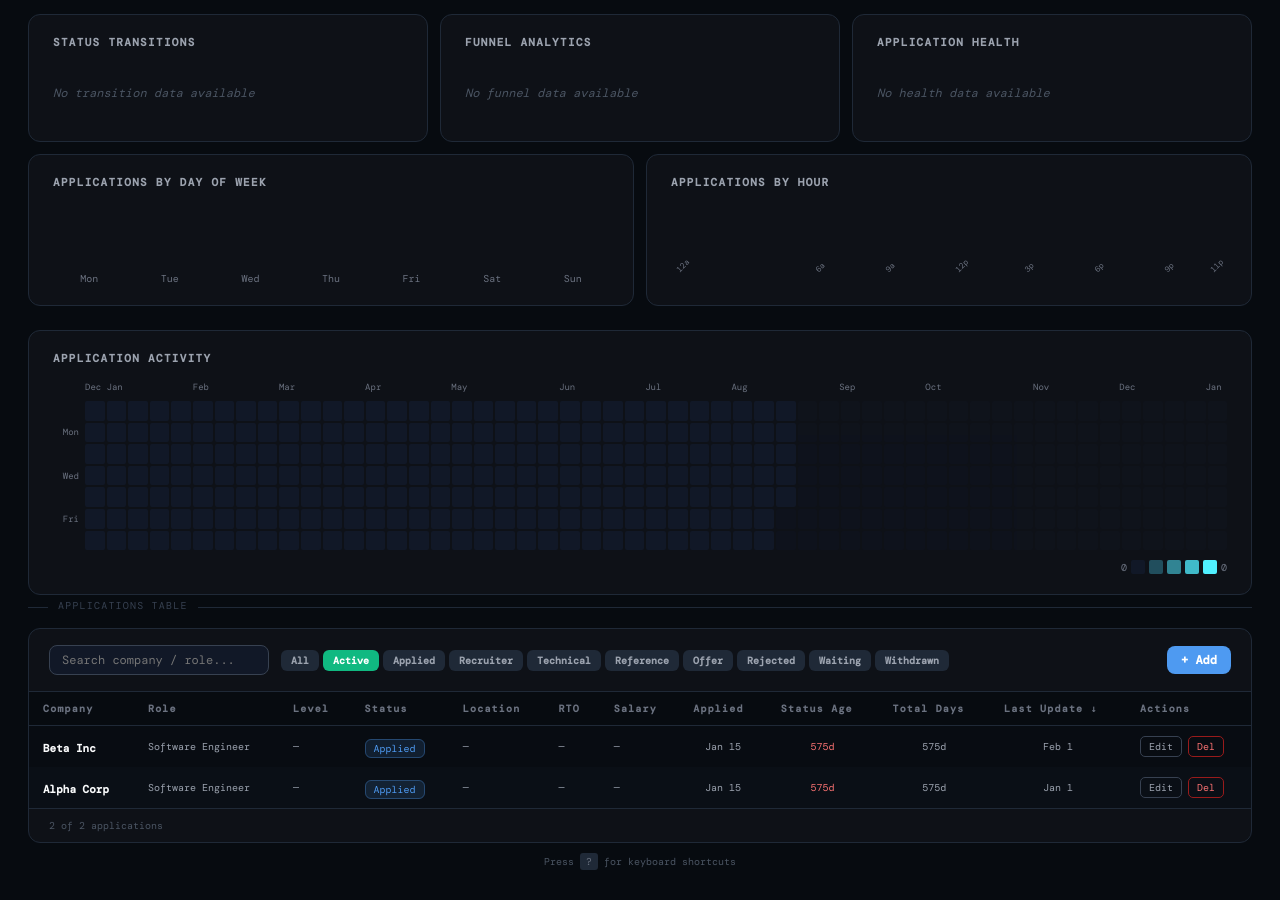
Test case: JobTracker (Dashboard) › Sort order after edit › should re-sort table immediately after edit without page refresh
(page scrolled)
Check: the table is shown, box x1=29 y1=692 x2=1251 y2=808
Check: the text "Beta Inc" is shown, box x1=43 y1=741 x2=96 y2=755
Note: Click Edit on Alpha Corp (second row)
What coordinates should you click on to do the following:
click the 2nd button "Edit"
I would click on:
 (1161, 788)
Its box is x1=1140 y1=777 x2=1182 y2=798.
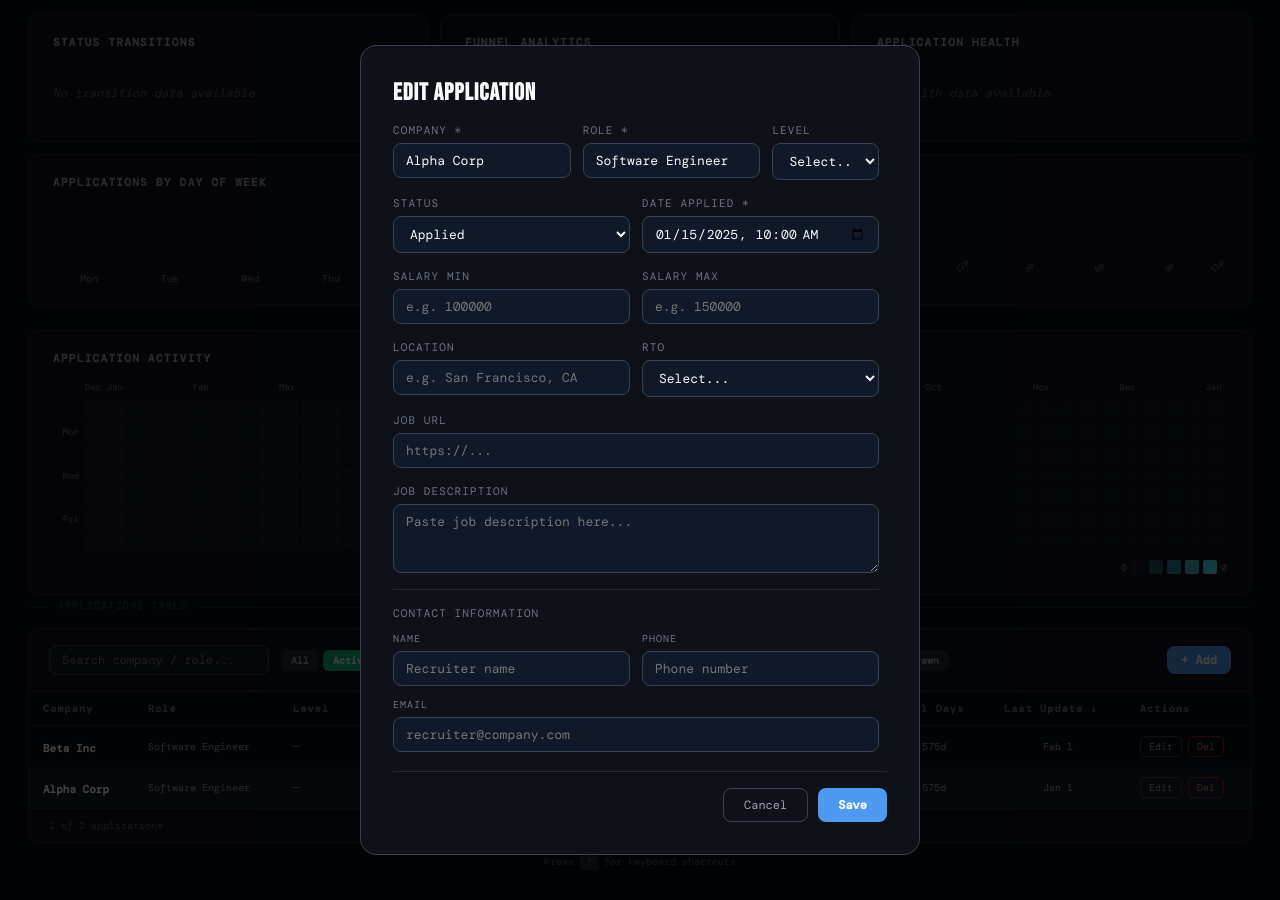
Check: the heading "Edit Application" is shown, box x1=393 y1=78 x2=536 y2=107
Note: Click Save
What coordinates should you click on to do the following:
click the button "Save"
I would click on:
 (853, 805)
Its box is x1=818 y1=788 x2=887 y2=822.
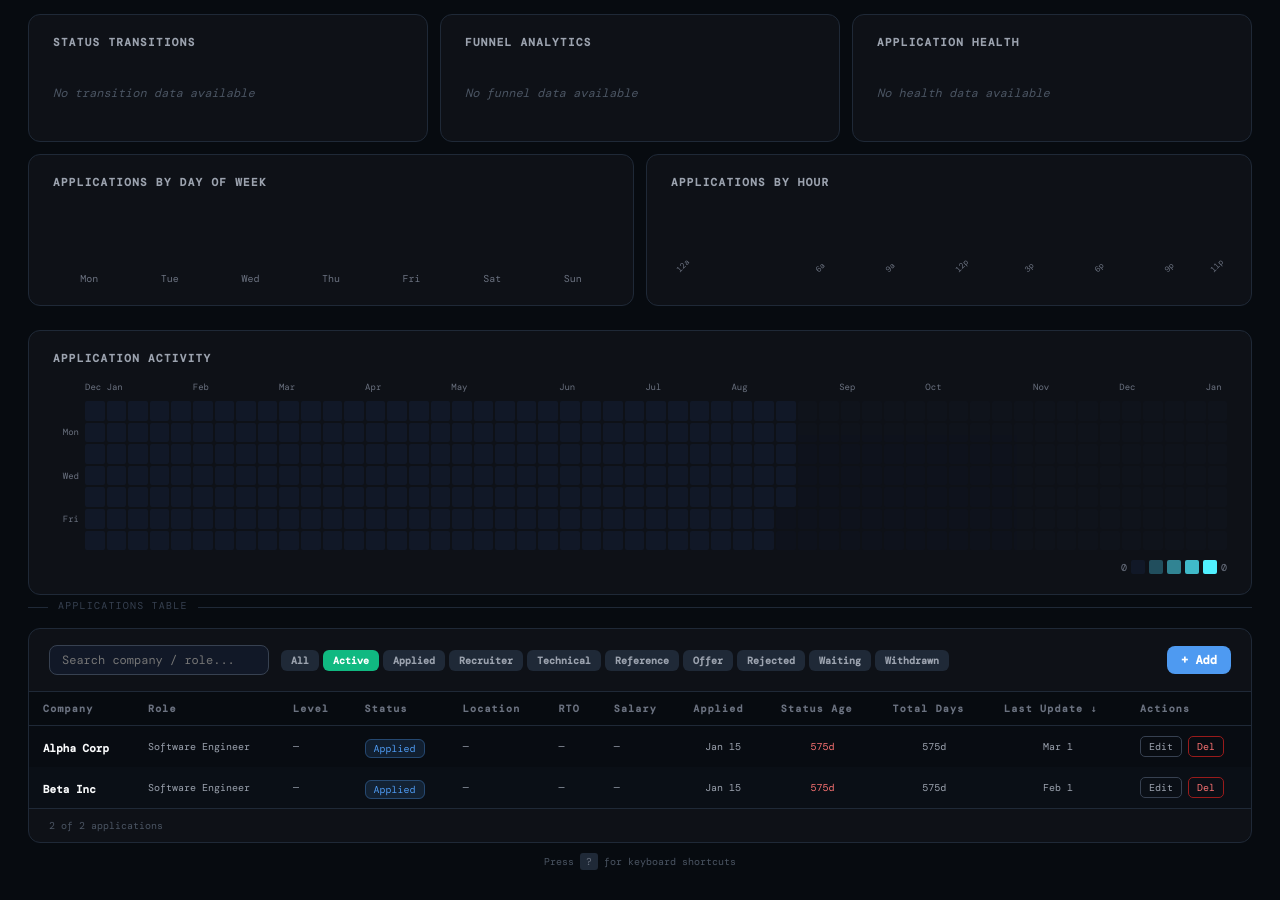
Check: the text "Alpha Corp" is shown, box x1=43 y1=741 x2=109 y2=755
Check: the heading "Edit Application" is gone
